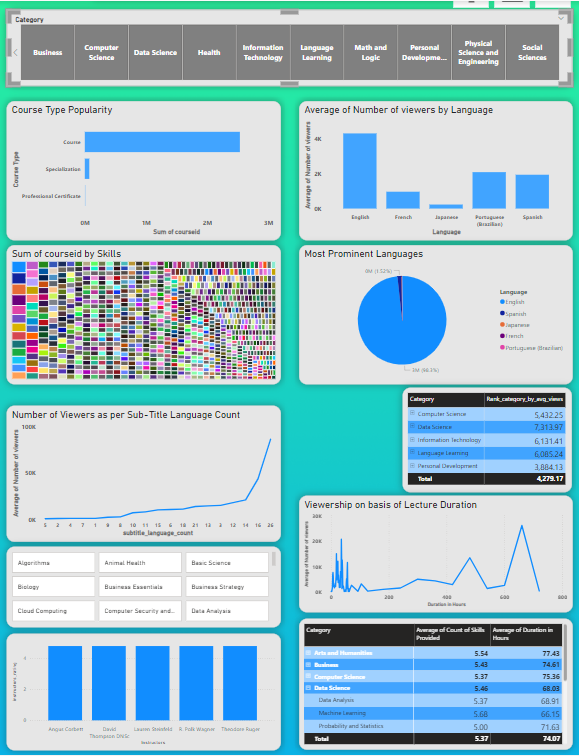

The dashboard page shown, as its layout file describes it:
{"tool":"powerbi","page":{"name":"Page 1","canvas":[1300,1800],"ordinal":0},"visuals":[{"type":"textbox","box":[212,0,876,118],"z":0},{"type":"slicer","fields":{"Values":["Online_Courses.Category"]},"box":[22,144,1258,170],"z":1000},{"type":"barChart","title":"Course Type Popularity","fields":{"Y":["Online_Courses.courseid"],"Category":["Online_Courses.Course Type"]},"box":[21.7,346.7,610,310],"z":2000},{"type":"columnChart","fields":{"Category":["Online_Courses.Language","Online_Courses.Sub-Category"],"Y":["Online_Courses.Number of viewers"]},"box":[671.7,346.7,608.3,310],"z":3000},{"type":"treemap","fields":{"Group":["Online_Courses.Skills"],"Values":["Online_Courses.courseid"]},"box":[21.7,666.7,610,310],"z":4000},{"type":"pieChart","title":"Most Prominent Languages","fields":{"Category":["Online_Courses.Language"],"Y":["Online_Courses.courseid"]},"box":[671.7,666.7,608.3,310],"z":5000},{"type":"pivotTable","fields":{"Rows":["Online_Courses.Category","Online_Courses.Language"],"Values":["Online_Courses.Rank_category_by_avg_views"]},"box":[903.3,983.3,376.7,233.3],"z":6000},{"type":"lineChart","title":"Number of Viewers as per Sub-Title Language Count","fields":{"Category":["Online_Courses.subtitle_language_count"],"Y":["Online_Courses.Number of viewers"]},"box":[21.7,1023.3,610,303.3],"z":7000},{"type":"columnChart","fields":{"Category":["Teachers.Instructors"],"Y":["Teachers.instructors_rating"]},"box":[21.7,1528.3,610,260],"z":8000},{"type":"actionButton","box":[0,0,100,40],"z":9000},{"type":"advancedSlicerVisual","fields":{"Values":["Teachers.Sub-Category"]},"box":[21.7,1336.7,610,180],"z":10000},{"type":"lineChart","title":"Viewership on basis of Lecture Duration","fields":{"Category":["Online_Courses.Duration in Hours "],"Y":["Online_Courses.Number of viewers"]},"box":[671.7,1223.3,608.3,260],"z":11000},{"type":"pivotTable","fields":{"Rows":["Online_Courses.Category","Online_Courses.Sub-Category"],"Values":["Online_Courses.Count of Skills Provided","Online_Courses.Duration in Hours "]},"box":[671.7,1496.7,608.3,291.7],"z":12000}]}

Visuals, with their boxes in screenshot pixels (x1, y1, x2, y2):
textbox: <box>92,0,482,3</box>
slicer - Online_Courses.Category: <box>8,15,568,91</box>
"Course Type Popularity" barChart: <box>8,105,279,243</box>
columnChart - Online_Courses.Language x Online_Courses.Sub-Category: <box>297,105,568,243</box>
treemap - Online_Courses.Skills x Online_Courses.courseid: <box>8,248,279,386</box>
"Most Prominent Languages" pieChart: <box>297,248,568,386</box>
pivotTable - Online_Courses.Category x Online_Courses.Language: <box>400,389,568,492</box>
"Number of Viewers as per Sub-Title Language Count" lineChart: <box>8,406,279,541</box>
columnChart - Teachers.Instructors x Teachers.instructors_rating: <box>8,631,279,747</box>
advancedSlicerVisual - Teachers.Sub-Category: <box>8,546,279,626</box>
"Viewership on basis of Lecture Duration" lineChart: <box>297,495,568,611</box>
pivotTable - Online_Courses.Category x Online_Courses.Sub-Category: <box>297,617,568,747</box>
